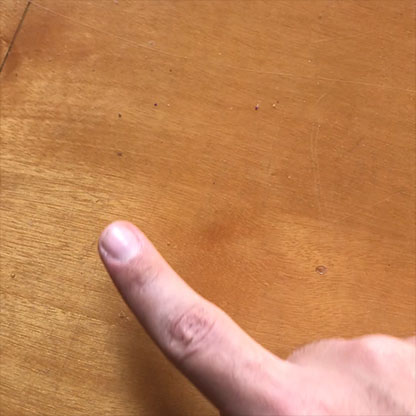fingertip: (85, 214, 149, 277)
